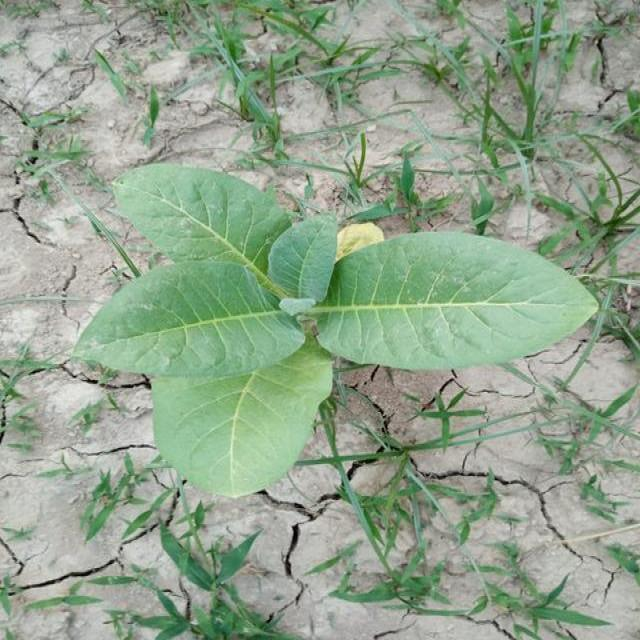crop: (102, 169, 587, 494)
